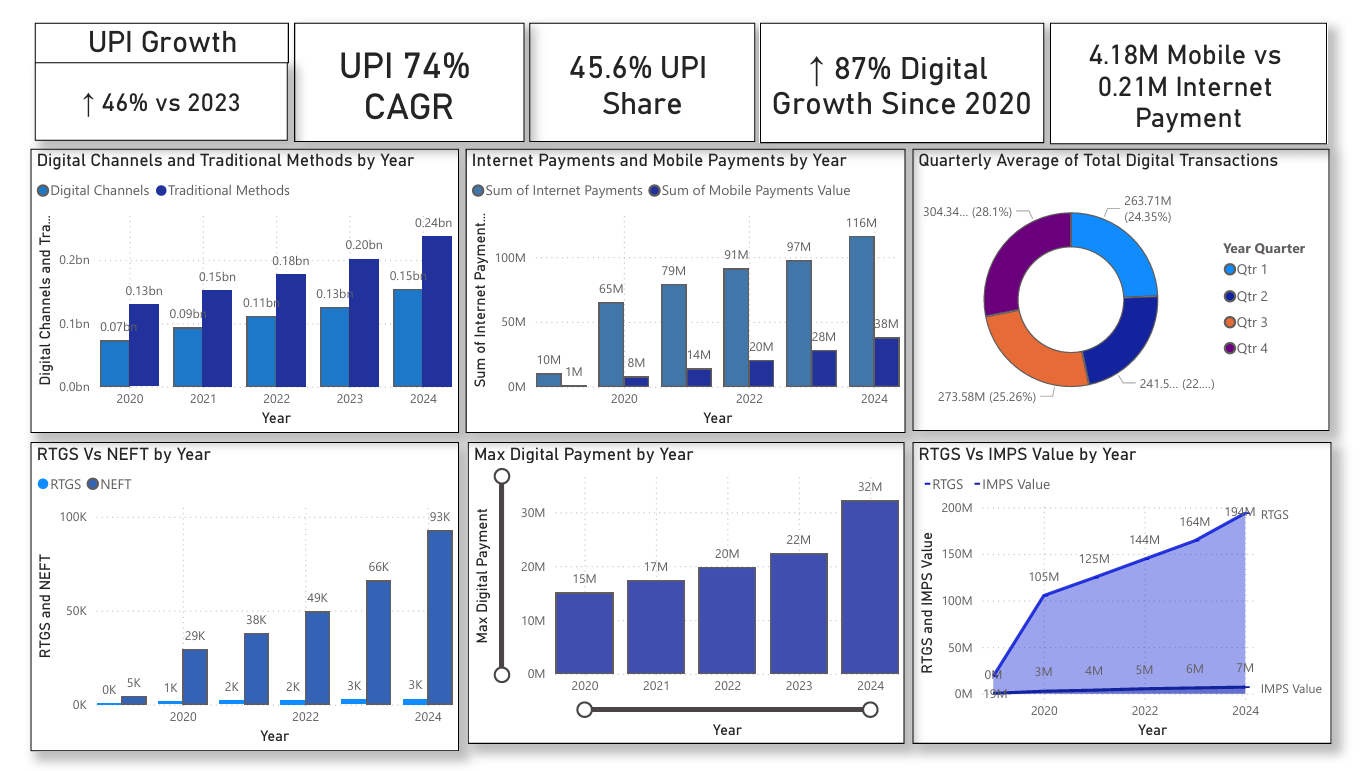

What the dashboard file says about the page in this screenshot:
{"tool":"powerbi","page":{"name":"Comparative Analysis ","canvas":[1280,720],"ordinal":1},"visuals":[{"type":"clusteredColumnChart","title":"RTGS Vs NEFT by Year","fields":{"Category":["Payment.Year.Variation.Date Hierarchy.Year"],"Y":["Sum(Payment.1 Credit Transfers - RTGS)","Sum(Payment.2.6 NEFT)"]},"box":[18.8,411.2,412.5,297.5],"z":0},{"type":"lineChart","title":"RTGS Vs IMPS Value by Year","fields":{"Category":["Payment.Year.Variation.Date Hierarchy.Year"],"Y":["Sum(Payment.RTGS)","Sum(Payment.IMPS Value)"]},"box":[868.8,411.2,403.8,291.2],"z":1000},{"type":"donutChart","title":"Quarterly Average of Total Digital Transactions","fields":{"Category":["Payment.Year.Variation.Date Hierarchy.Quarter"],"Y":["Payment.Quarterly Avg Transactions"]},"box":[868.8,128.1,401.6,271.9],"z":2000},{"type":"clusteredColumnChart","fields":{"Y":["Payment.Max Retail Payment"],"Category":["Payment.Year.Variation.Date Hierarchy.Year","Payment.Year.Variation.Date Hierarchy.Month"]},"box":[440,411.4,421.4,291.4],"z":3000},{"type":"clusteredColumnChart","fields":{"Category":["Payment.Year.Variation.Date Hierarchy.Year"],"Y":["Payment.Digital Channels","Payment.Traditional Methods"]},"box":[18.8,128.8,412.5,273.8],"z":4000},{"type":"clusteredColumnChart","title":"Internet Payments and Mobile Payments by Year","fields":{"Category":["Payment.Year.Variation.Date Hierarchy.Year"],"Y":["Sum(Payment.Internet Payments)","Sum(Payment.Mobile Payments Value)"]},"box":[437.5,128.8,423.7,273.7],"z":5000},{"type":"card","title":"UPI","fields":{"Values":["Payment.UPI Market Share %"]},"box":[499.2,7.5,218.3,115],"z":6000},{"type":"card","fields":{"Values":["Payment.Fastest Growing Channel"]},"box":[272.5,7.5,221.7,115],"z":7000},{"type":"card","title":"UPI GROWTH","fields":{"Values":["Payment.UPI Growth Label"]},"box":[22.5,44.9,244.2,75.9],"z":8000,"group":"g1"},{"type":"card","fields":{"Values":["Payment.Total Transaction Volume"]},"box":[721.4,7.1,274.3,115.7],"z":9000},{"type":"card","title":"UPI Growth ","fields":{"Values":["Payment.Total UPI"]},"box":[22,7.3,245.3,39.3],"z":10000,"group":"g1"},{"type":"card","fields":{"Values":["Payment.Mobile vs Internet Payment"]},"box":[1001.4,7.1,267.1,117.1],"z":11000},{"type":"group","id":"g1","title":"Group 1","box":[22,7.3,245.3,113.5],"z":11001}]}

Visuals, with their boxes in screenshot pixels (x1, y1, x2, y2), scaled from the page's 1280x720 canvas onto the 1370x771 screenshot:
"RTGS Vs NEFT by Year" clusteredColumnChart: [20, 440, 462, 759]
"RTGS Vs IMPS Value by Year" lineChart: [930, 440, 1362, 752]
"Quarterly Average of Total Digital Transactions" donutChart: [930, 137, 1360, 428]
clusteredColumnChart - Payment.Max Retail Payment x Payment.Year.Variation.Date Hierarchy.Year: [471, 441, 922, 753]
clusteredColumnChart - Payment.Year.Variation.Date Hierarchy.Year x Payment.Digital Channels: [20, 138, 462, 431]
"Internet Payments and Mobile Payments by Year" clusteredColumnChart: [468, 138, 922, 431]
"UPI" card: [534, 8, 768, 131]
card - Payment.Fastest Growing Channel: [292, 8, 529, 131]
"UPI GROWTH" card: [24, 48, 285, 129]
card - Payment.Total Transaction Volume: [772, 8, 1066, 131]
"UPI Growth " card: [24, 8, 286, 50]
card - Payment.Mobile vs Internet Payment: [1072, 8, 1358, 133]
"Group 1" group: [24, 8, 286, 129]
